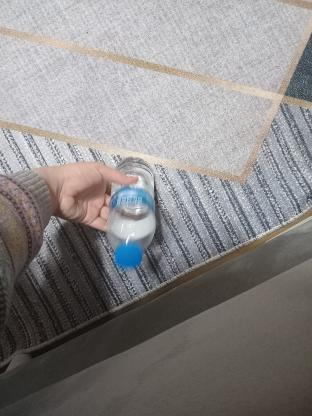Plastic Bottle: (106, 156, 158, 272)
